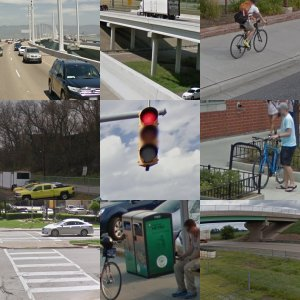汽車: (199, 206, 291, 266), (17, 173, 67, 193), (43, 55, 68, 76), (137, 154, 158, 172), (130, 237, 152, 250)
腳踏車: (55, 228, 94, 276), (1, 247, 52, 282), (211, 46, 255, 77)
